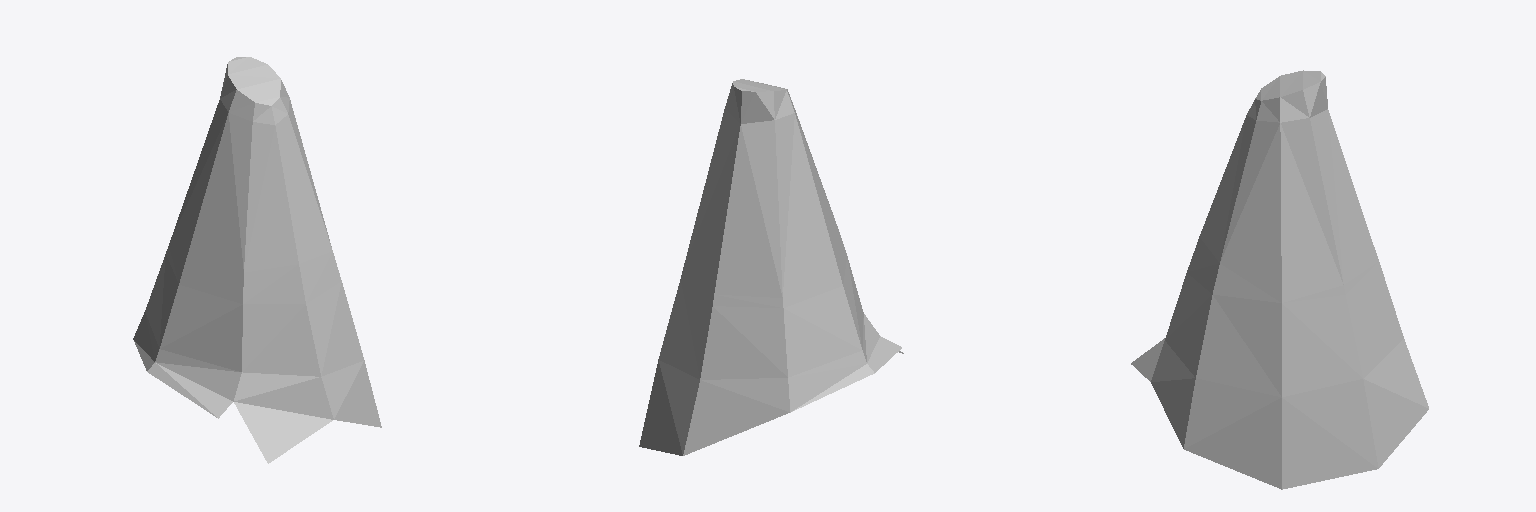
The model's file is pierna_izq.obj.
3 views of the same model, side by side, from view 1: azimuth 30°, elevation 25°; view 2: azimuth 150°, elevation 25°; view 3: azimuth 270°, elevation 25° (orthographic).
Parts seen in each view (by area): view 1: Body_jinsters_padoru.001; view 2: Body_jinsters_padoru.001; view 3: Body_jinsters_padoru.001.
Boxes of the visible parts, x1=… form: Body_jinsters_padoru.001: x1=133, y1=57, x2=381, y2=463; Body_jinsters_padoru.001: x1=639, y1=79, x2=903, y2=455; Body_jinsters_padoru.001: x1=1131, y1=70, x2=1428, y2=489.
Bounding box in the file's own units: 0.0651 × 0.1043 × 0.0781.